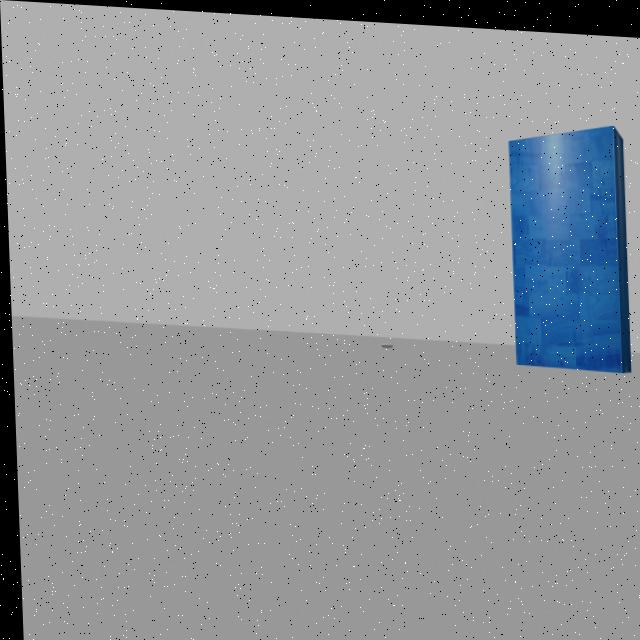bowl: (369, 329, 398, 350)
shelf: (482, 94, 640, 388)
